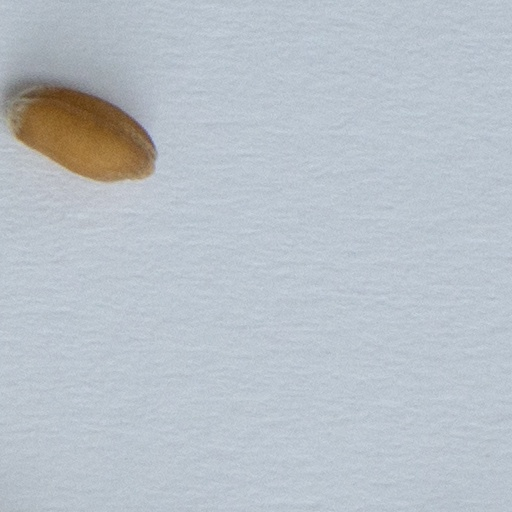Wheat-grain-poly: (9, 86, 158, 181)
